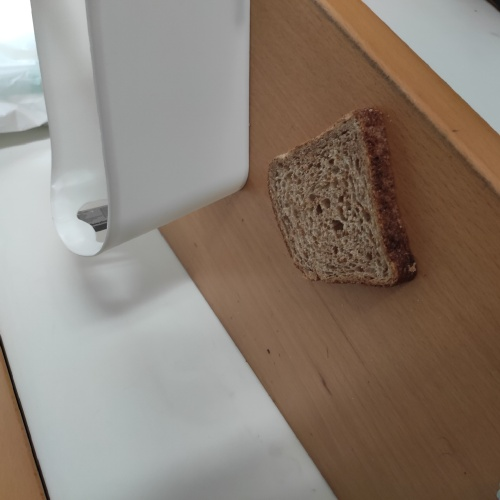pane: (264, 90, 432, 292)
